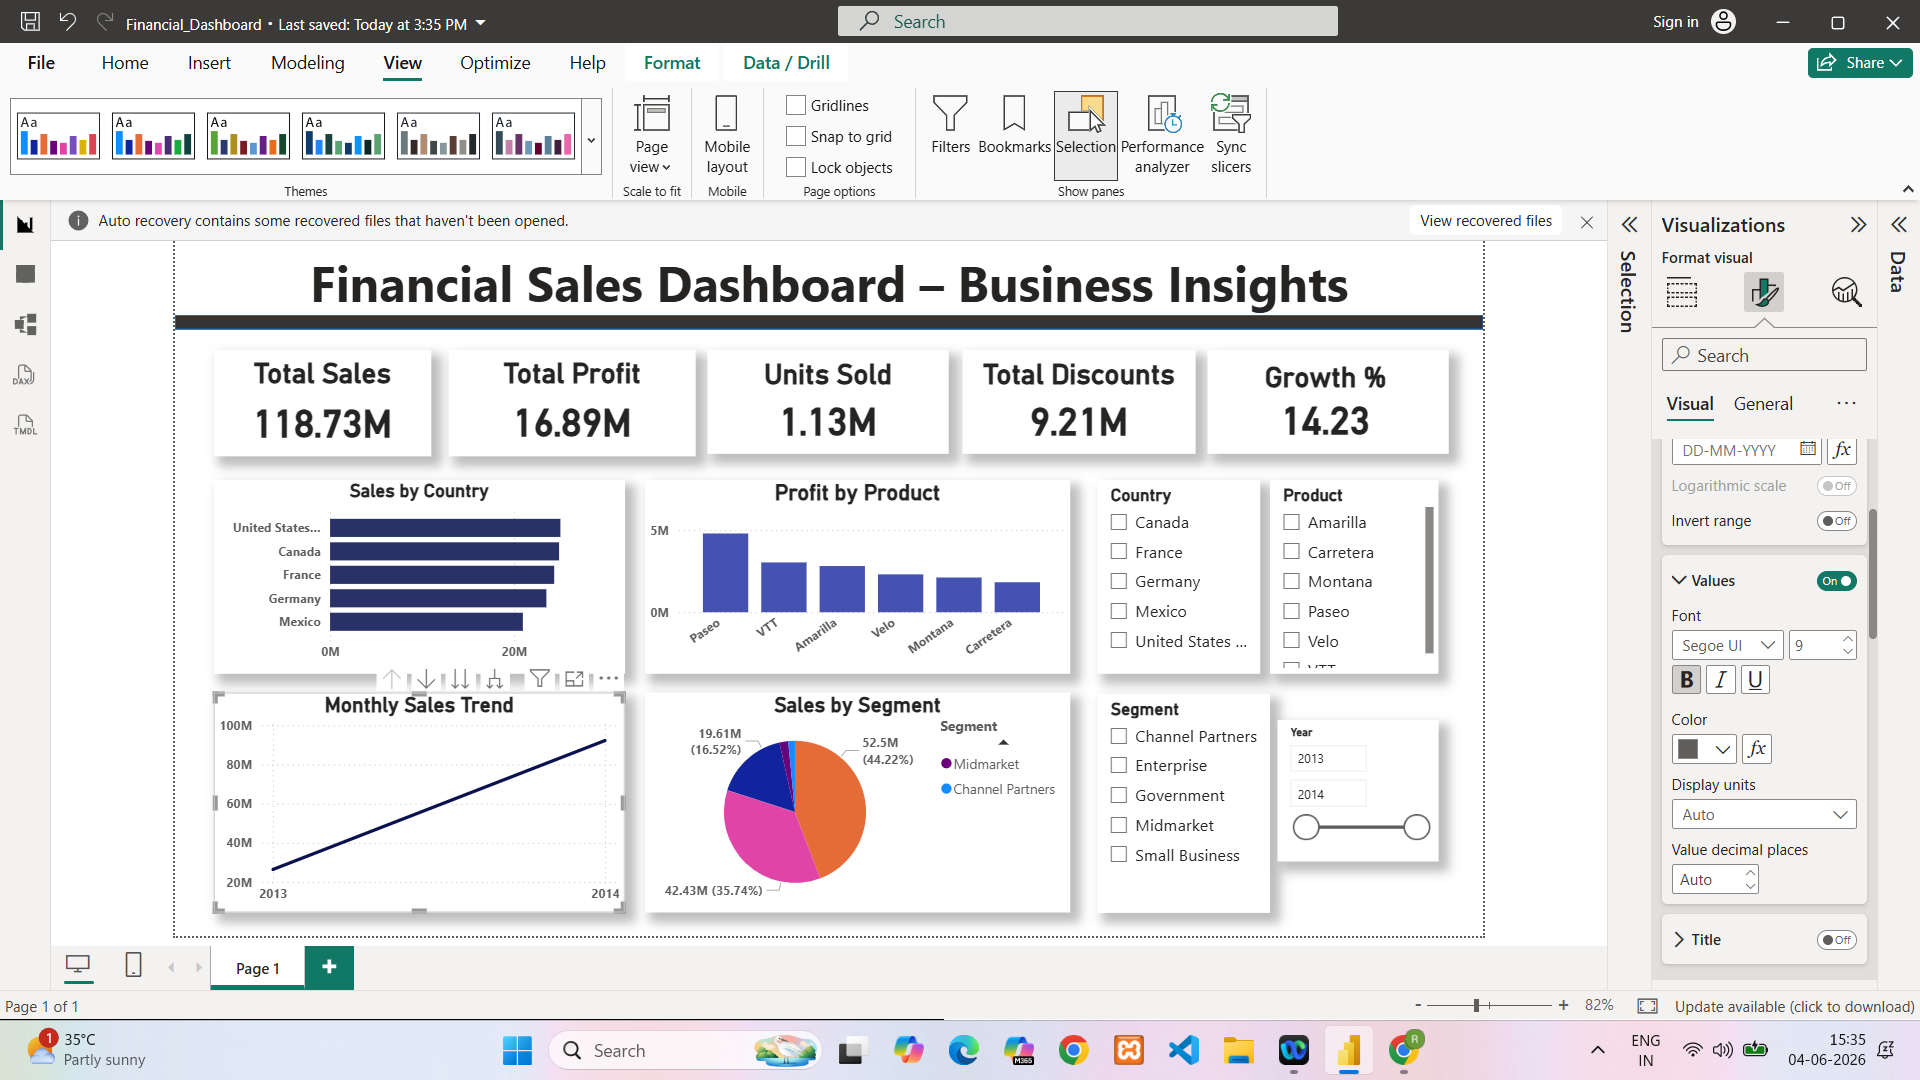

The dashboard page shown, as its layout file describes it:
{"tool":"powerbi","page":{"name":"Page 1","canvas":[1280,720],"ordinal":0},"visuals":[{"type":"card","title":"Total Sales","fields":{"Values":["Sum(Sheet1. Sales)"]},"box":[38.4,146.8,212.7,104.3],"z":0},{"type":"card","title":"Total Profit","fields":{"Values":["Sum(Sheet1.Profit)"]},"box":[267.6,146.8,241.5,104.3],"z":1000},{"type":"card","title":"Units Sold","fields":{"Values":["Sum(Sheet1.Units Sold)"]},"box":[521.4,146.8,236,101.5],"z":2000},{"type":"card","title":"Total Discounts","fields":{"Values":["Sum(Sheet1.Discounts)"]},"box":[769.8,146.8,227.8,101.5],"z":3000},{"type":"lineChart","title":"Monthly Sales Trend","fields":{"Category":["Sheet1.Date.Variation.Date Hierarchy.Year","Sheet1.Date.Variation.Date Hierarchy.Quarter","Sheet1.Date.Variation.Date Hierarchy.Month","Sheet1.Date.Variation.Date Hierarchy.Day"],"Y":["Sum(Sheet1. Sales)"]},"box":[38.4,481.6,402.1,215.4],"z":4000},{"type":"clusteredBarChart","title":"Sales by Country","fields":{"Category":["Sheet1.Country"],"Y":["Sum(Sheet1. Sales)"]},"box":[38.4,274.4,402.1,189.4],"z":5000},{"type":"clusteredColumnChart","title":"Profit by Product","fields":{"Category":["Sheet1.Product"],"Y":["Sum(Sheet1.Profit)"]},"box":[459.7,274.4,415.8,189.4],"z":6000},{"type":"pieChart","title":"Sales by Segment","fields":{"Category":["Sheet1.Segment"],"Y":["Sum(Sheet1. Sales)"]},"box":[459.7,481.6,415.8,215.4],"z":7000},{"type":"slicer","fields":{"Values":["Sheet1.Country"]},"box":[902.9,274.4,159.2,189.4],"z":8000},{"type":"slicer","fields":{"Values":["Sheet1.Product"]},"box":[1071.7,274.4,164.7,189.4],"z":9000},{"type":"slicer","fields":{"Values":["Sheet1.Segment"]},"box":[902.9,483,168.8,214.1],"z":10000},{"type":"slicer","fields":{"Values":["Sheet1.Year"]},"box":[1078.6,509.1,157.8,138.6],"z":11000},{"type":"card","title":"Growth %","fields":{"Values":["Sheet1.Growth"]},"box":[1010,146.8,236,101.5],"z":12000},{"type":"shape","box":[0,112.3,1280,13.6],"z":13000},{"type":"textbox","box":[0,42.5,1280.3,83.7],"z":14000},{"type":"shape","box":[0,112.6,1280,14.3],"z":14001}]}

Visuals, with their boxes on the page's 1280x720 design canvas (x1, y1, x2, y2). These are canvas units, not pixel positions in the 1920x1080 screenshot, which may show the page scaled, cropped or inside an application window:
"Total Sales" card: [38, 147, 251, 251]
"Total Profit" card: [268, 147, 509, 251]
"Units Sold" card: [521, 147, 757, 248]
"Total Discounts" card: [770, 147, 998, 248]
"Monthly Sales Trend" lineChart: [38, 482, 440, 697]
"Sales by Country" clusteredBarChart: [38, 274, 440, 464]
"Profit by Product" clusteredColumnChart: [460, 274, 876, 464]
"Sales by Segment" pieChart: [460, 482, 876, 697]
slicer - Sheet1.Country: [903, 274, 1062, 464]
slicer - Sheet1.Product: [1072, 274, 1236, 464]
slicer - Sheet1.Segment: [903, 483, 1072, 697]
slicer - Sheet1.Year: [1079, 509, 1236, 648]
"Growth %" card: [1010, 147, 1246, 248]
shape: [0, 112, 1280, 126]
textbox: [0, 42, 1280, 126]
shape: [0, 113, 1280, 127]
